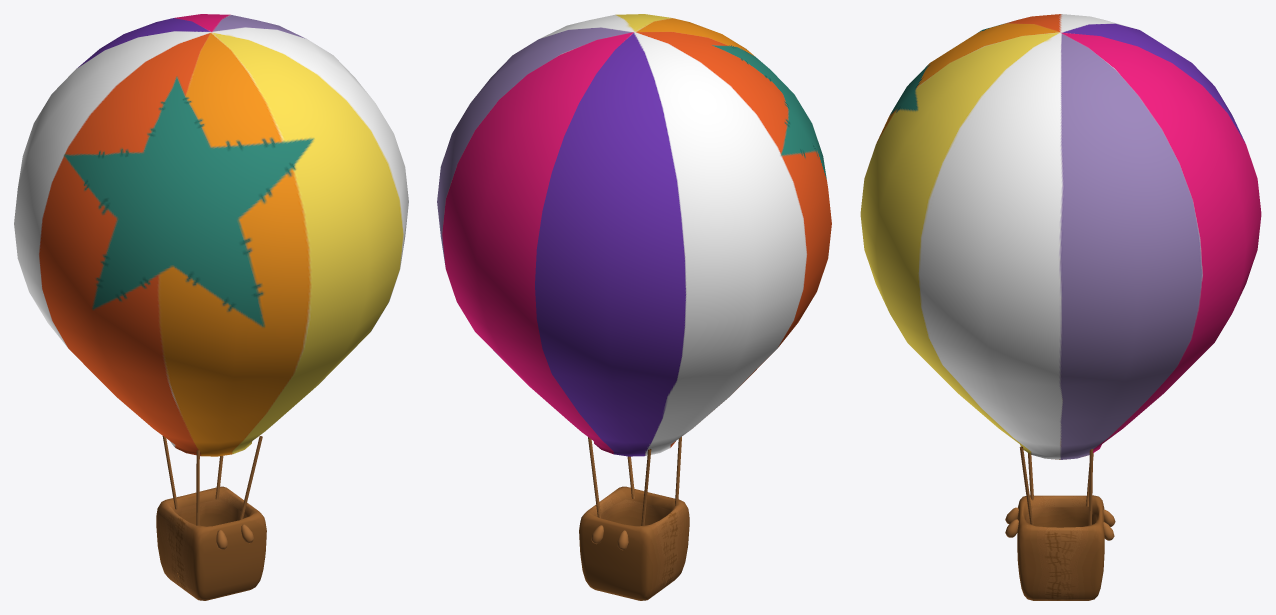
The model's file is hotAirBalloon.glb.
The picture shows the model from 3 angles, left to right: view 1: azimuth 30°, elevation 25°; view 2: azimuth 150°, elevation 25°; view 3: azimuth 270°, elevation 25°; orthographic projection.
Parts seen in each view (by area): view 1: hotAirBalloon; view 2: hotAirBalloon; view 3: hotAirBalloon.
Part boxes in pixels (x1,y1,x2,y2): hotAirBalloon: (14,14,408,600); hotAirBalloon: (437,14,831,600); hotAirBalloon: (860,14,1261,600).
Size of the model in its own units: 3.29 by 5.03 by 3.29.
1 material, 1 textured.
